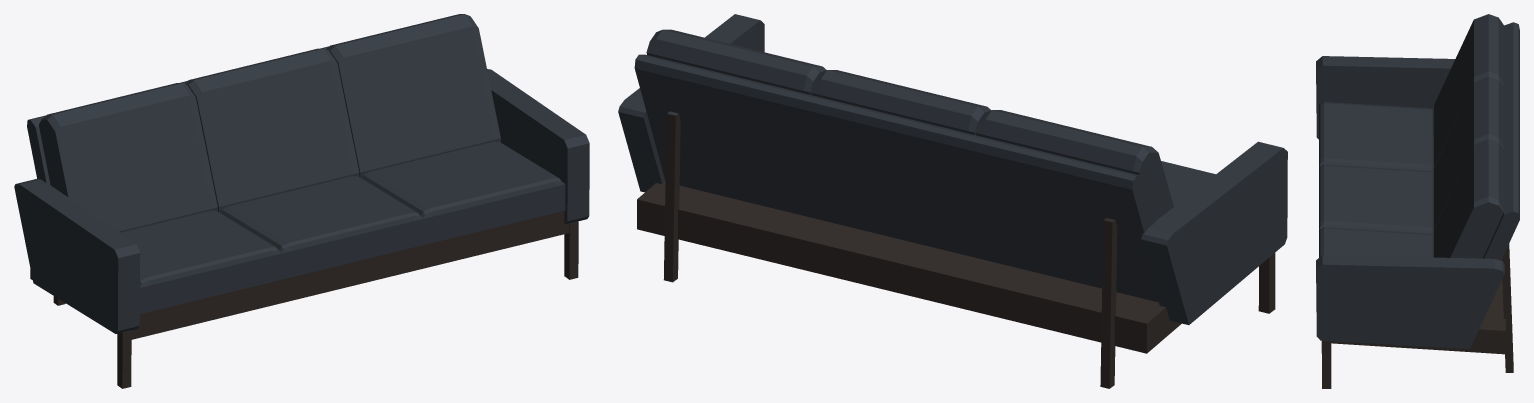
File: Sofa.fbx
The picture shows the model from 3 angles, left to right: view 1: azimuth 30°, elevation 25°; view 2: azimuth 150°, elevation 25°; view 3: azimuth 270°, elevation 25°; orthographic projection. The views are drawn at different scales.
Parts seen in each view (by area): view 1: Sofa; view 2: Sofa; view 3: Sofa.
Boxes of the visible parts, left/top/right/bottom form: Sofa: left=14, top=14, right=589, bottom=388; Sofa: left=618, top=14, right=1287, bottom=388; Sofa: left=1316, top=14, right=1519, bottom=388.
Bounding box in the file's own units: 206 × 84.31 × 85.2.
